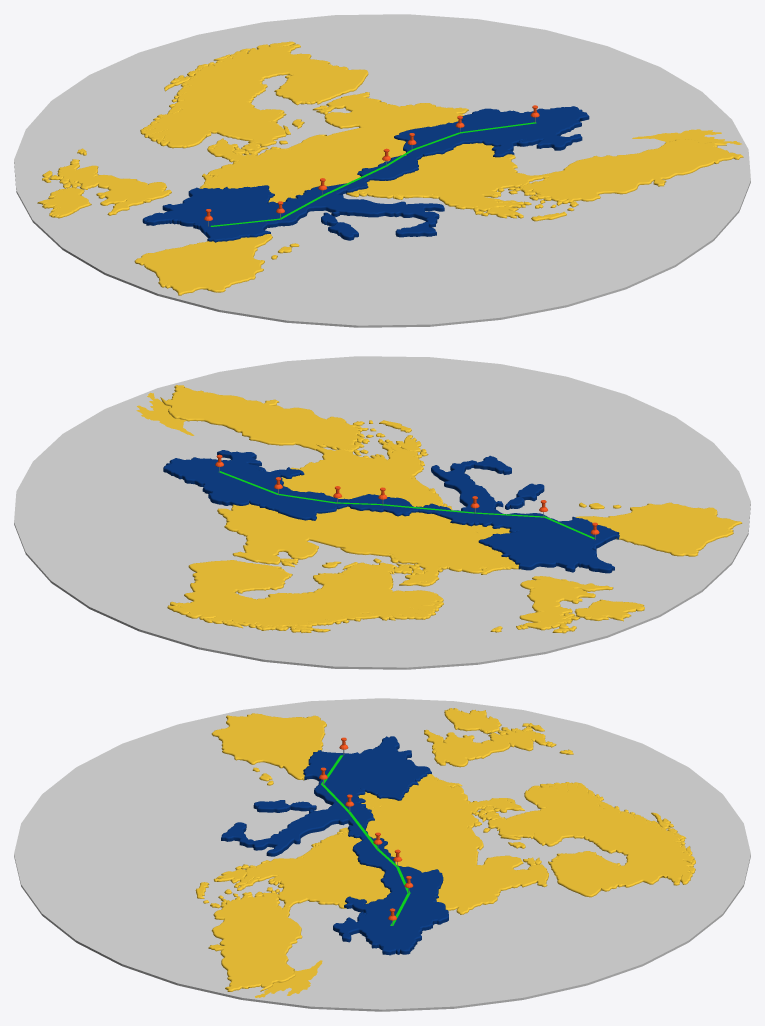
File: EUROPE_MAP.gltf
The picture shows the model from 3 angles, top to bottom: view 1: azimuth 30°, elevation 25°; view 2: azimuth 150°, elevation 25°; view 3: azimuth 270°, elevation 25°; orthographic projection.
Parts seen in each view (by area): view 1: Cylinder, Curve.030, ukraine, france, Curve.002, Curve.011, Curve.031, Curve.036, italie, Curve.039, Curve.001, Curve.024 (+16 smaller); view 2: Cylinder, Curve.030, ukraine, france, Curve.002, Curve.031, Curve.011, Curve.036, italie, Curve.039, Curve.001, Curve.024 (+15 smaller); view 3: Cylinder, Curve.030, ukraine, france, Curve.002, Curve.011, Curve.031, Curve.036, italie, Curve.039, Curve.001, Curve.024 (+15 smaller).
Part boxes in pixels (x1,y1,x2,y2): Cylinder: (14,14,750,327); Curve.030: (509,139,743,203); ukraine: (394,106,589,157); france: (142,185,337,242); Curve.002: (193,65,304,147); Curve.011: (134,234,299,292); Curve.031: (140,41,300,148); Curve.036: (221,48,368,105); italie: (278,184,444,240); Curve.039: (221,146,326,195); Curve.001: (42,148,171,215); Curve.024: (287,126,405,161); Cylinder: (14,356,750,669); Curve.030: (160,385,363,458); ukraine: (163,450,346,520); france: (478,496,619,573); Curve.002: (237,561,396,621); Curve.031: (167,587,443,632); Curve.011: (576,502,721,556); Curve.036: (184,560,292,619); italie: (431,455,544,528); Curve.039: (389,523,492,574); Curve.001: (490,576,613,633); Curve.024: (302,509,402,556); Cylinder: (14,698,750,1011); Curve.030: (208,890,302,991); ukraine: (333,865,448,955); france: (290,736,431,811); Curve.002: (487,810,668,861); Curve.011: (211,715,326,785); Curve.031: (524,782,695,885); Curve.036: (548,843,681,897); italie: (221,791,374,856); Curve.039: (376,789,482,831); Curve.001: (424,719,573,767); Curve.024: (403,826,483,872).
Bounding box in the file's own units: 10.19 × 0.3813 × 10.19.
